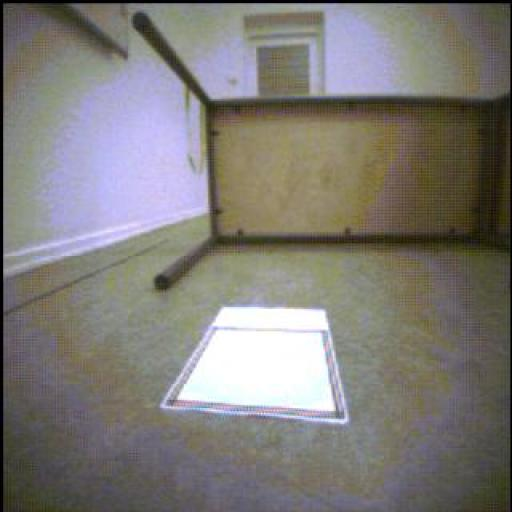Pad: (166, 305, 370, 423)
